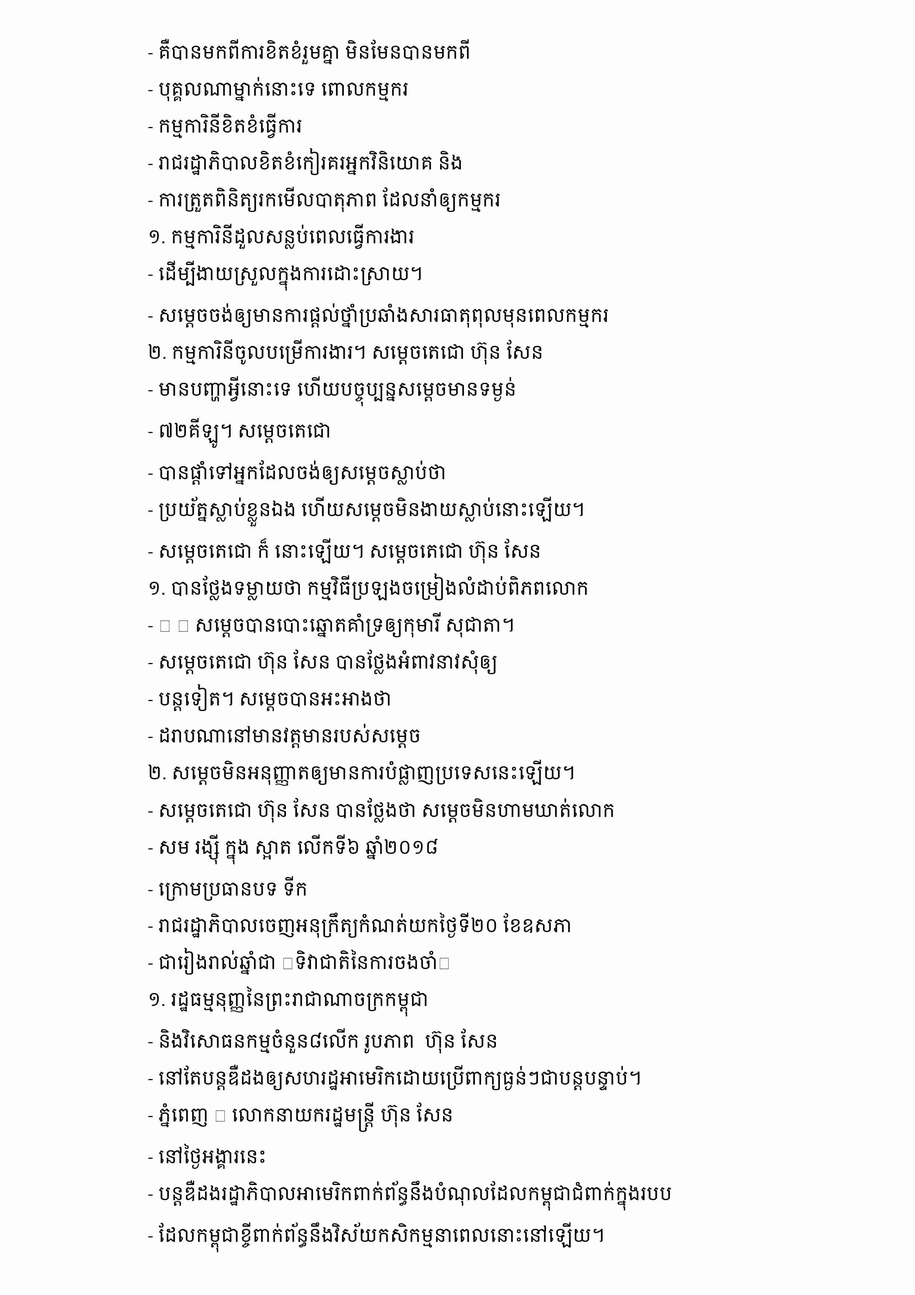text: (148, 1180, 677, 1211), (148, 1222, 610, 1253), (148, 497, 590, 527), (148, 573, 594, 601), (148, 1065, 646, 1090), (148, 798, 620, 823), (148, 303, 614, 328), (148, 760, 580, 786), (148, 376, 521, 406), (148, 913, 577, 938), (148, 339, 548, 365), (148, 538, 546, 564), (148, 612, 519, 638), (148, 1102, 459, 1132), (148, 1028, 503, 1054), (148, 834, 443, 865), (148, 187, 506, 212), (148, 649, 503, 674), (148, 986, 434, 1017), (148, 148, 468, 175), (148, 39, 476, 65), (148, 261, 428, 291), (148, 948, 456, 975), (148, 460, 451, 485), (148, 224, 419, 249), (148, 684, 397, 711), (148, 724, 426, 748), (148, 77, 414, 102), (148, 418, 336, 448), (148, 876, 313, 901), (148, 113, 307, 138), (148, 1144, 272, 1169)
